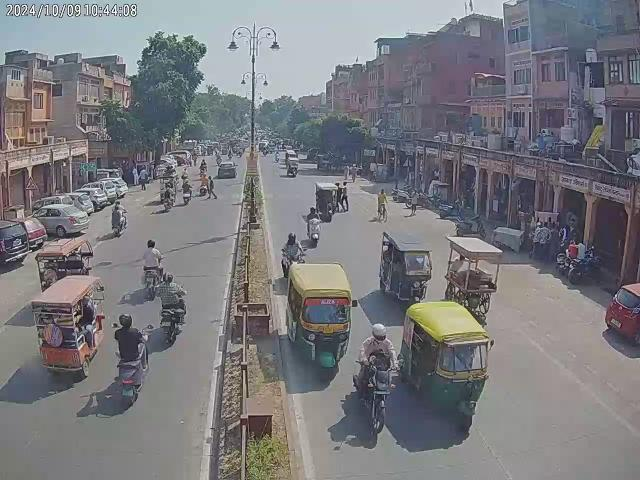auto: (398, 301, 494, 431), (284, 261, 354, 381), (31, 272, 107, 380), (377, 232, 433, 302), (314, 182, 342, 221)
bicycle-rider: (376, 189, 388, 220)
car: (604, 274, 640, 346), (0, 215, 47, 270), (28, 199, 92, 238), (102, 177, 128, 199), (216, 161, 237, 179)
helmet: (369, 323, 388, 342), (118, 314, 134, 327), (161, 272, 175, 283), (288, 232, 297, 243), (147, 239, 157, 248)
motorbike: (568, 252, 604, 282)
motorbike-rider: (354, 322, 400, 436), (158, 272, 188, 344), (142, 238, 163, 298), (280, 232, 306, 275), (110, 202, 128, 236), (162, 184, 176, 210)
scooty: (456, 212, 488, 236), (438, 200, 465, 219), (390, 188, 412, 202)
scooty-rider: (111, 314, 153, 402), (304, 206, 322, 246), (182, 179, 192, 203), (200, 172, 208, 195)
vendor: (443, 234, 502, 312)
